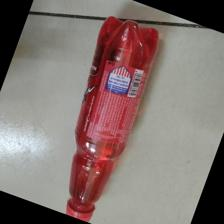Sting: (62, 15, 160, 224)
